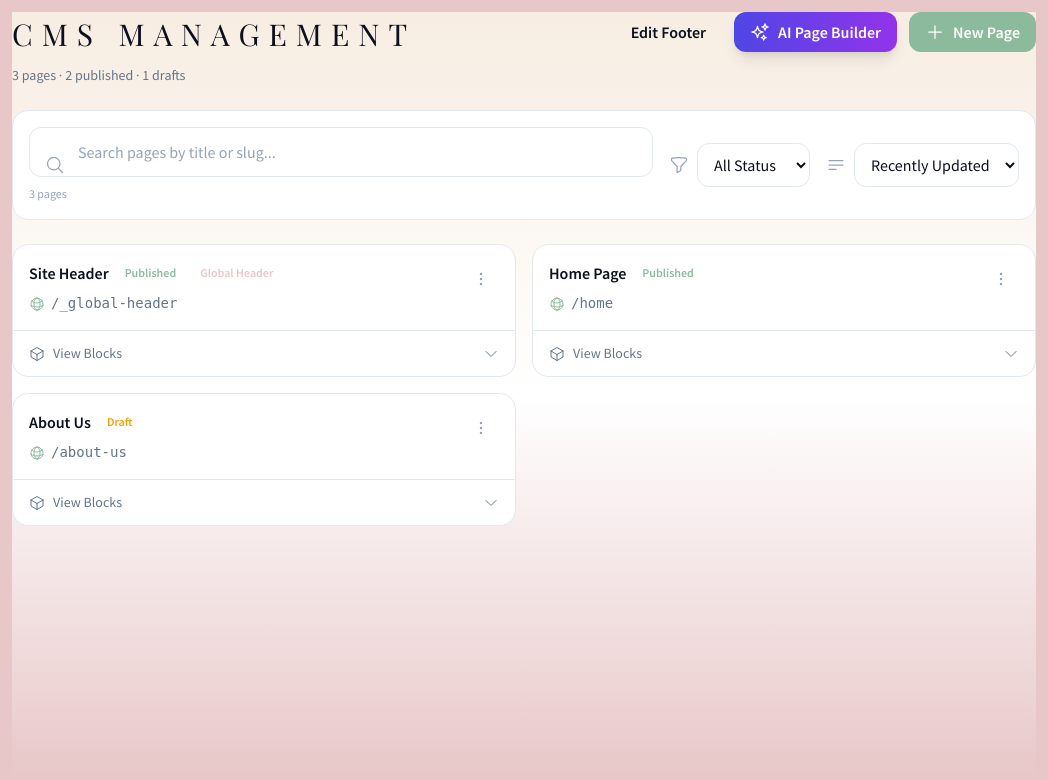
Test case: AdminCMS › Search and Filtering › filters pages by search query
Expected: the heading "Home Page" is shown, [549,261,626,285]
Type "About" into the search field with placeholder "Search pages by title or slug..." at point(341, 152), box [29,127,653,177]
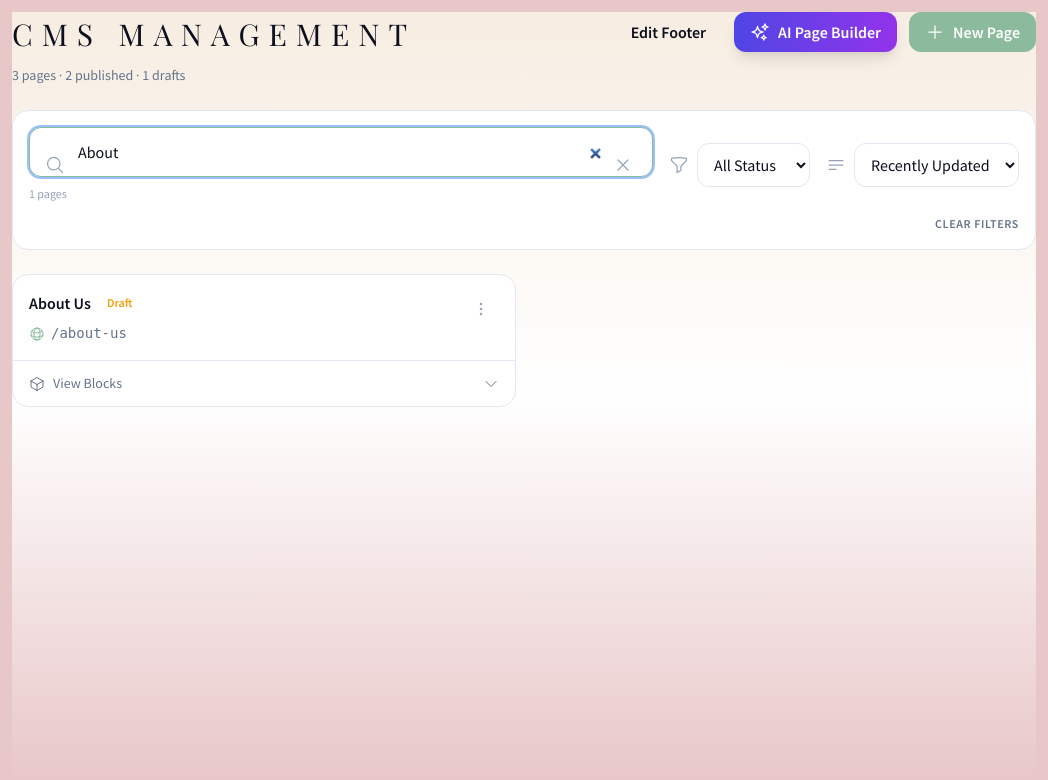
Expected: the heading "About Us" is shown, [29,291,91,315]
Now the heading "Home Page" is gone
